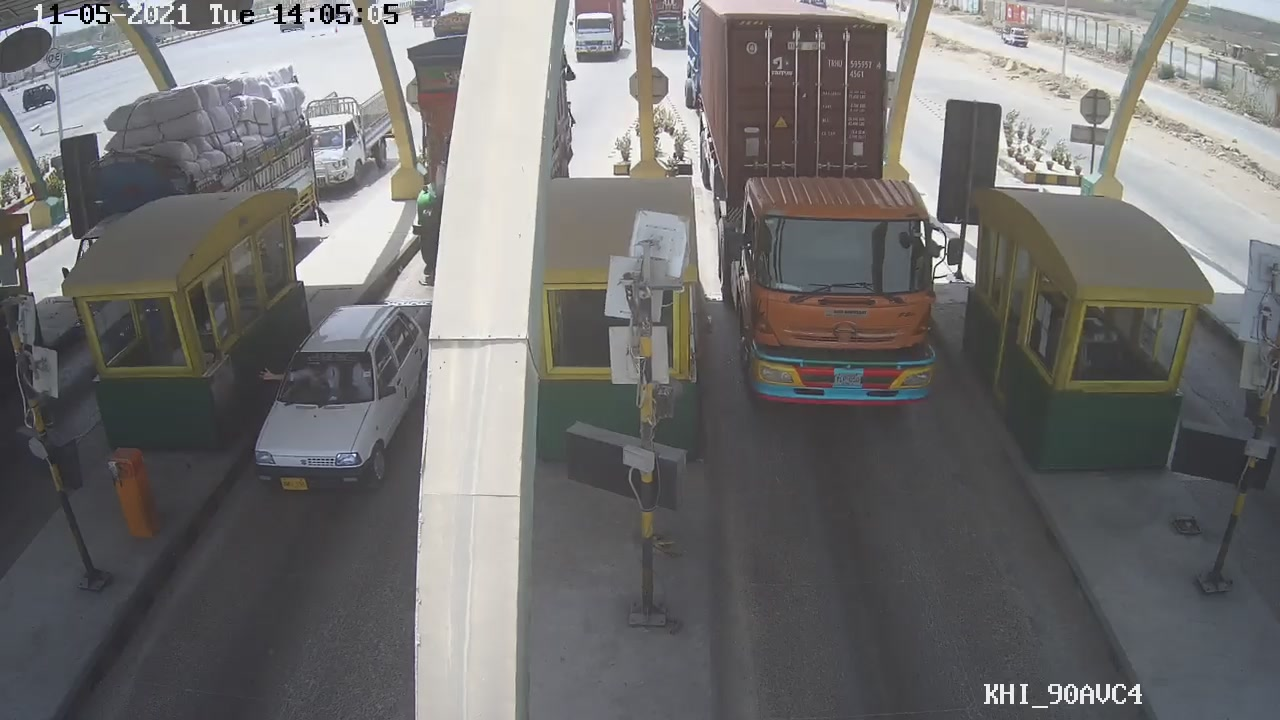F6: (692, 9, 958, 413)
